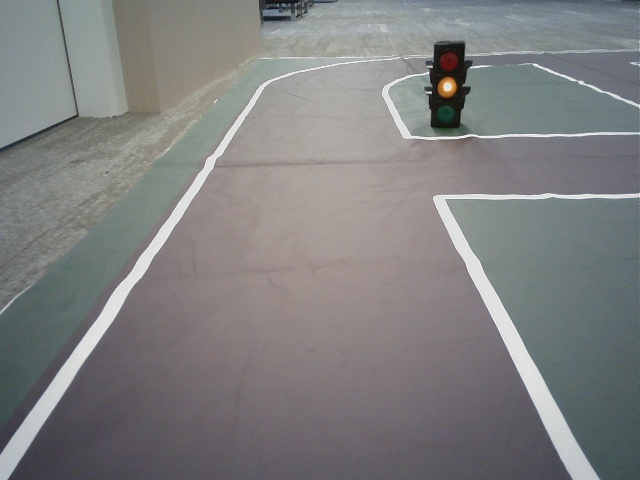yellow: (431, 44, 460, 122)
